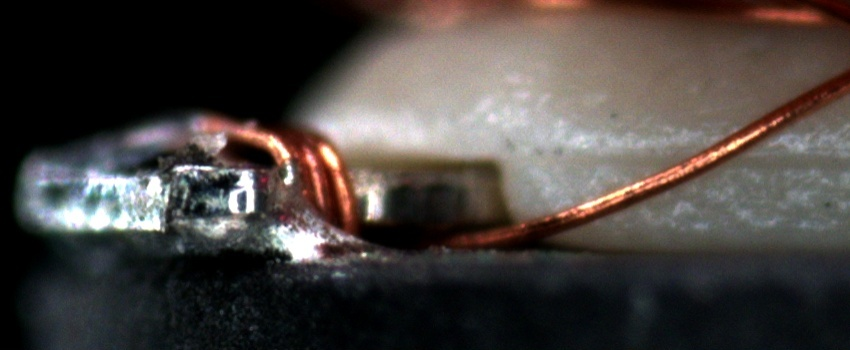DL: (559, 126, 850, 185)
TE: (182, 108, 366, 243)
